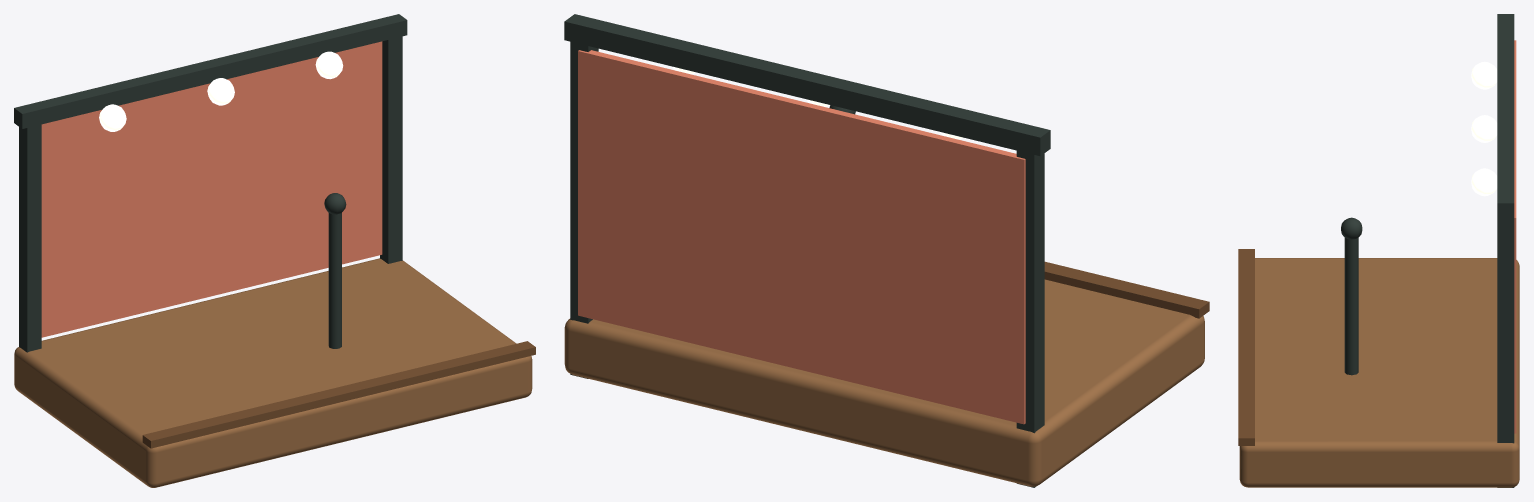
Rendered from prop_district_stage_ph.glb.
3 renders of one model, left to right at view 1: azimuth 30°, elevation 25°; view 2: azimuth 150°, elevation 25°; view 3: azimuth 270°, elevation 25°, orthographic. The views are drawn at different scales.
Visible parts, largest first — view 1: prop_district_stage; view 2: prop_district_stage; view 3: prop_district_stage.
Boxes of the visible parts, x1,y1,x2,y2 form: prop_district_stage: (14, 14, 535, 487); prop_district_stage: (564, 14, 1209, 487); prop_district_stage: (1238, 14, 1519, 487).
Bounding box in the file's own units: 3.2 × 2.26 × 2.01.
